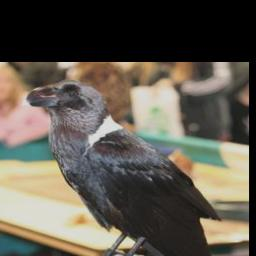Crow: (21, 78, 225, 256)
